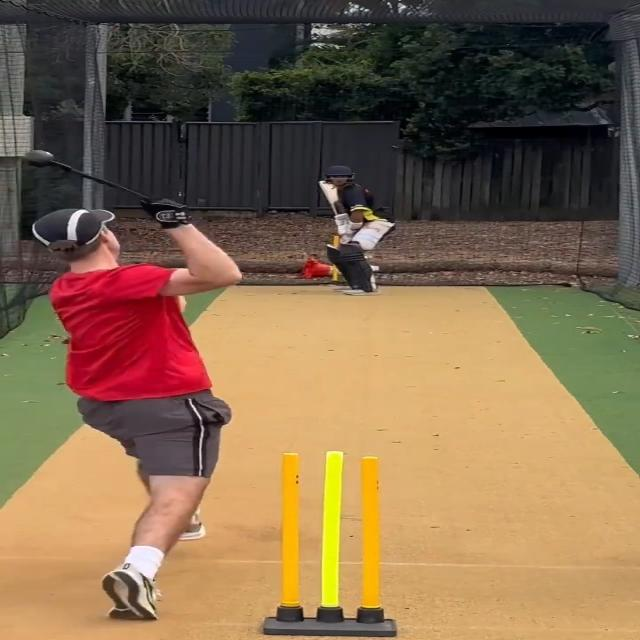stump: (263, 447, 400, 640)
